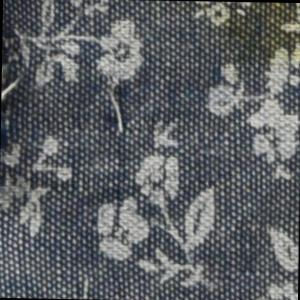Damage: (1, 1, 36, 209), (101, 70, 133, 146)
Stain: (191, 1, 300, 76)
